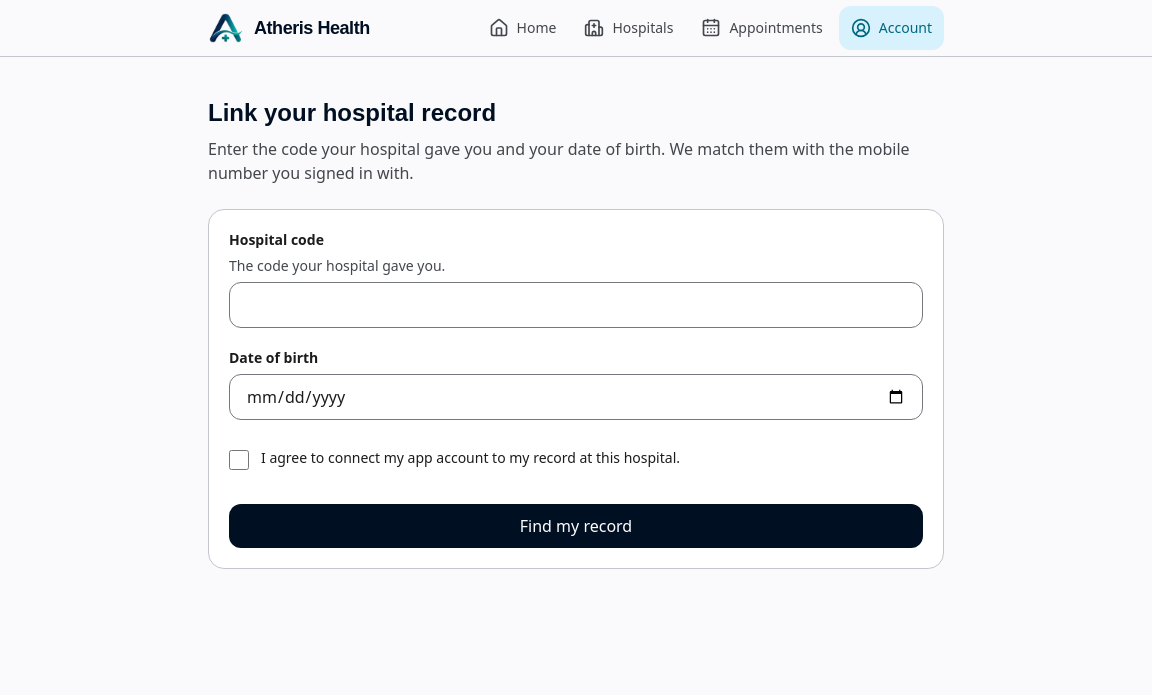
link a hospital record › escapes the hospital code so it cannot reach another path
Type "../../me?x" into the field labelled "Hospital code".
click(576, 305); type("../../me?x")  # box [229,282,923,328]
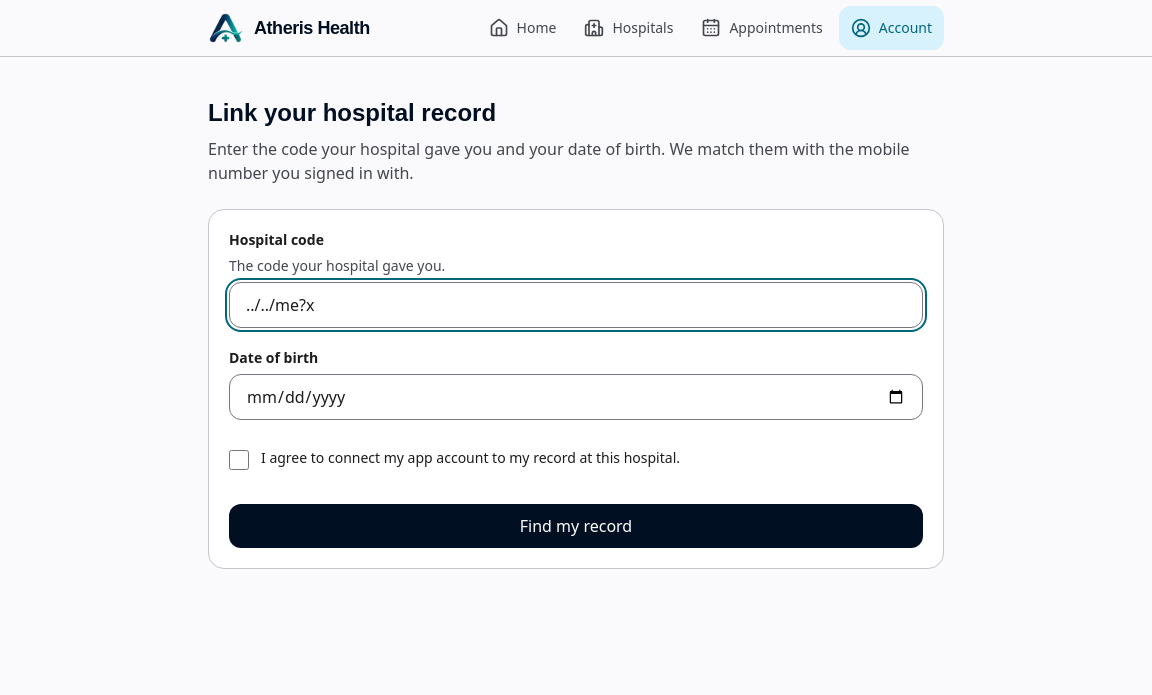
Type "1990-05-17" into the date field labelled "Date of birth".
click(576, 397); type("1990-05-17")  # box [229,374,923,420]
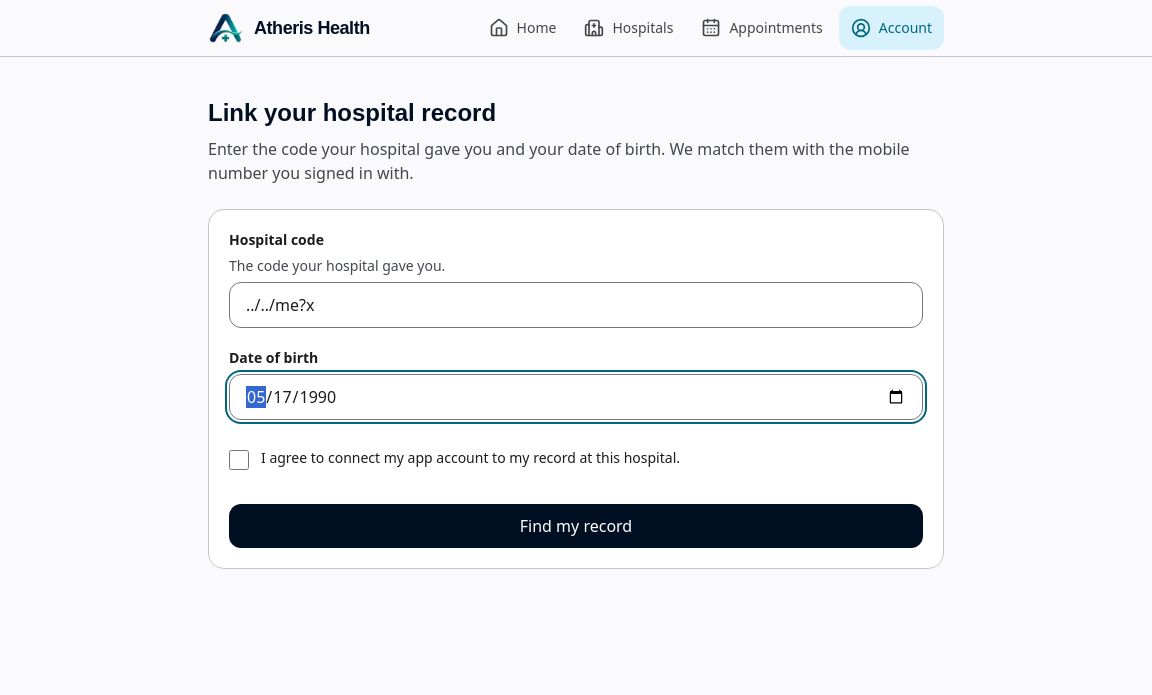
Click the checkbox.
click(239, 460)  # box [229,450,249,470]
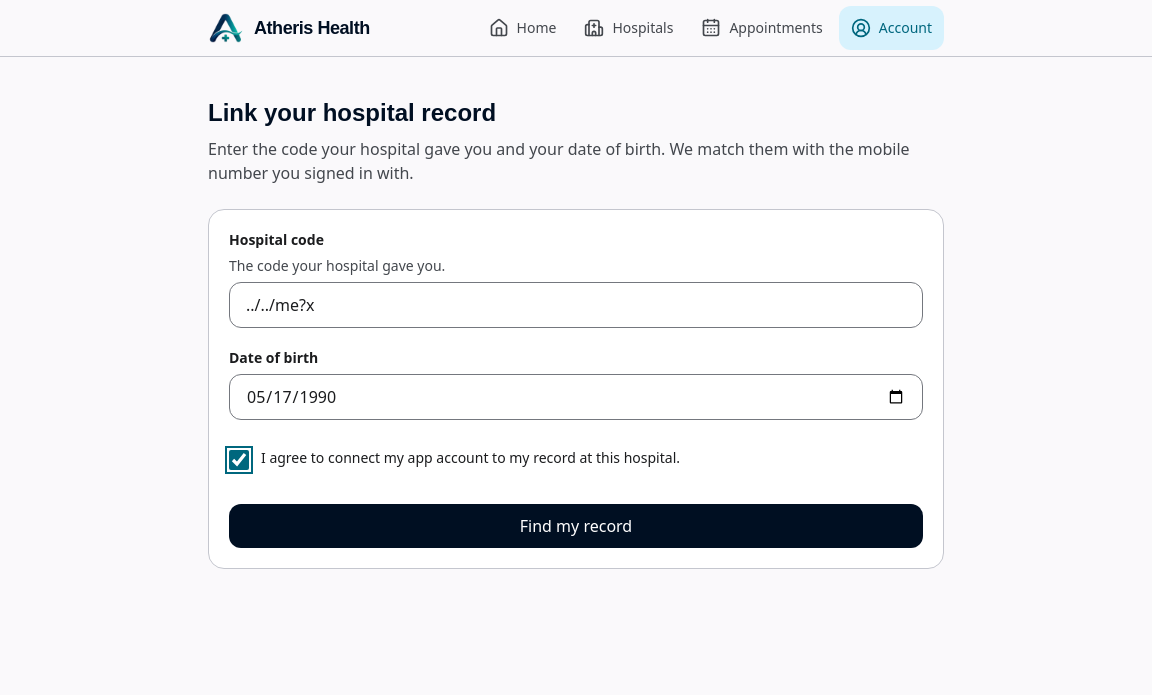
Click the button "Find my record".
click(576, 526)  # box [229,504,923,548]
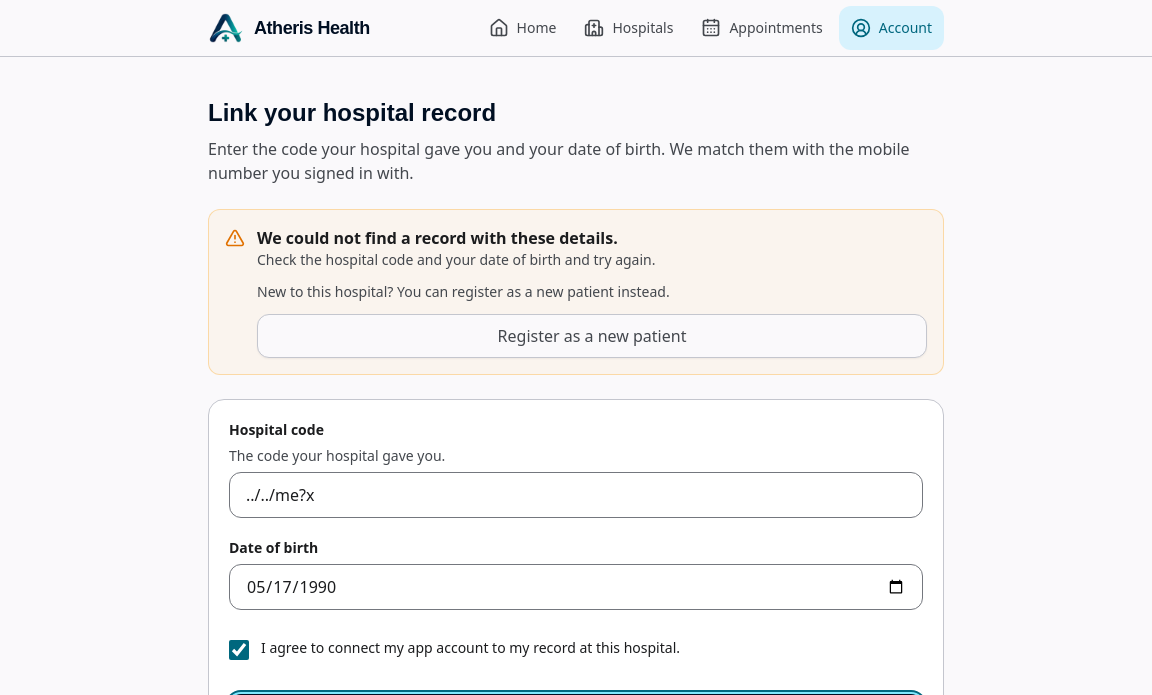
Result: the text "We could not find a record with these details." is shown at [257,227,618,249]
